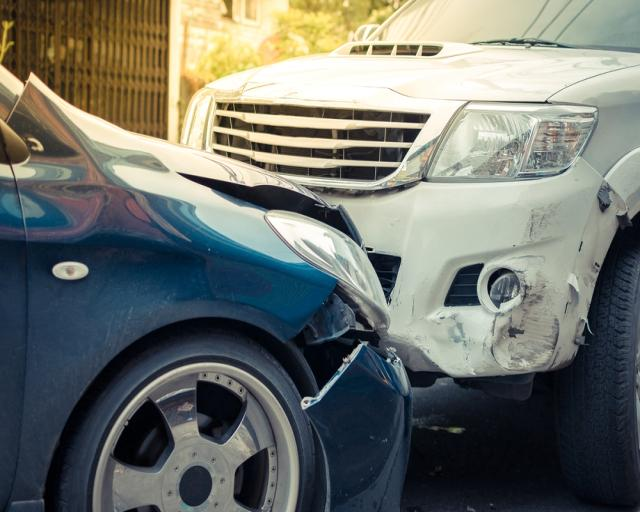dent: (423, 277, 555, 377)
scratch: (522, 199, 561, 248)
